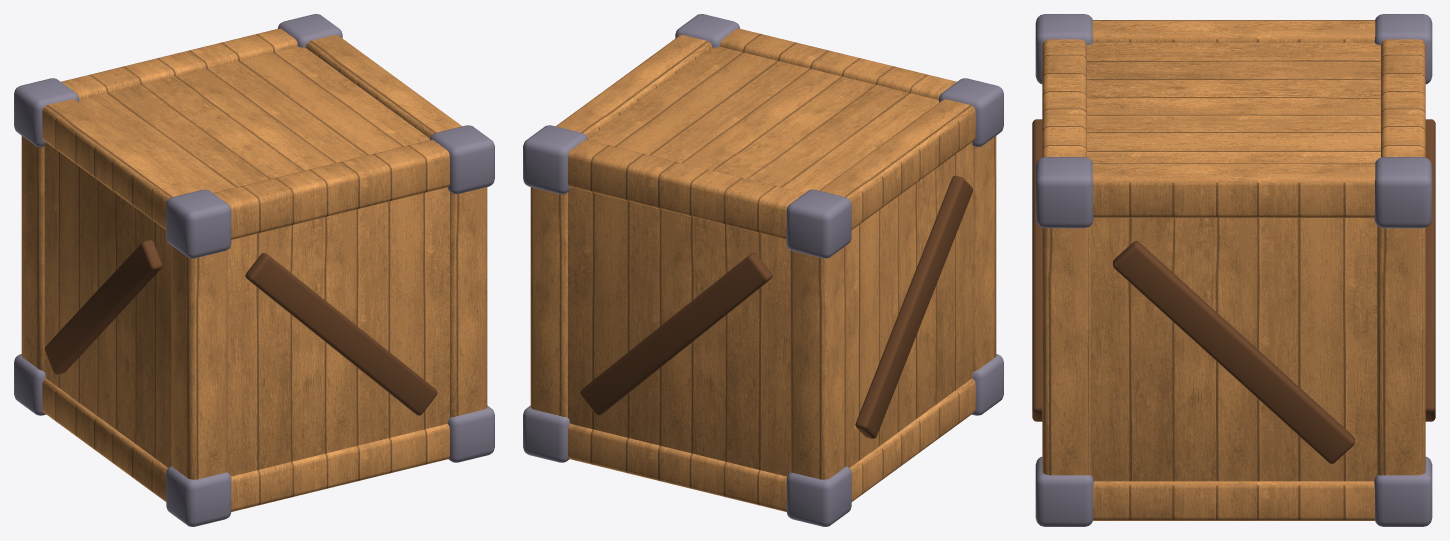
File: crate_wood.glb
The picture shows the model from 3 angles, left to right: view 1: azimuth 30°, elevation 25°; view 2: azimuth 150°, elevation 25°; view 3: azimuth 270°, elevation 25°; orthographic projection. The views are drawn at different scales.
Parts seen in each view (by area): view 1: crate_wood; view 2: crate_wood; view 3: crate_wood.
Part boxes in pixels (box(x1,y1,x2,y2)): crate_wood: box(14, 14, 494, 526); crate_wood: box(523, 14, 1003, 526); crate_wood: box(1032, 14, 1435, 526).
Bounding box in the file's own units: 0.905 × 0.87 × 0.905.
3 materials, 1 textured.
